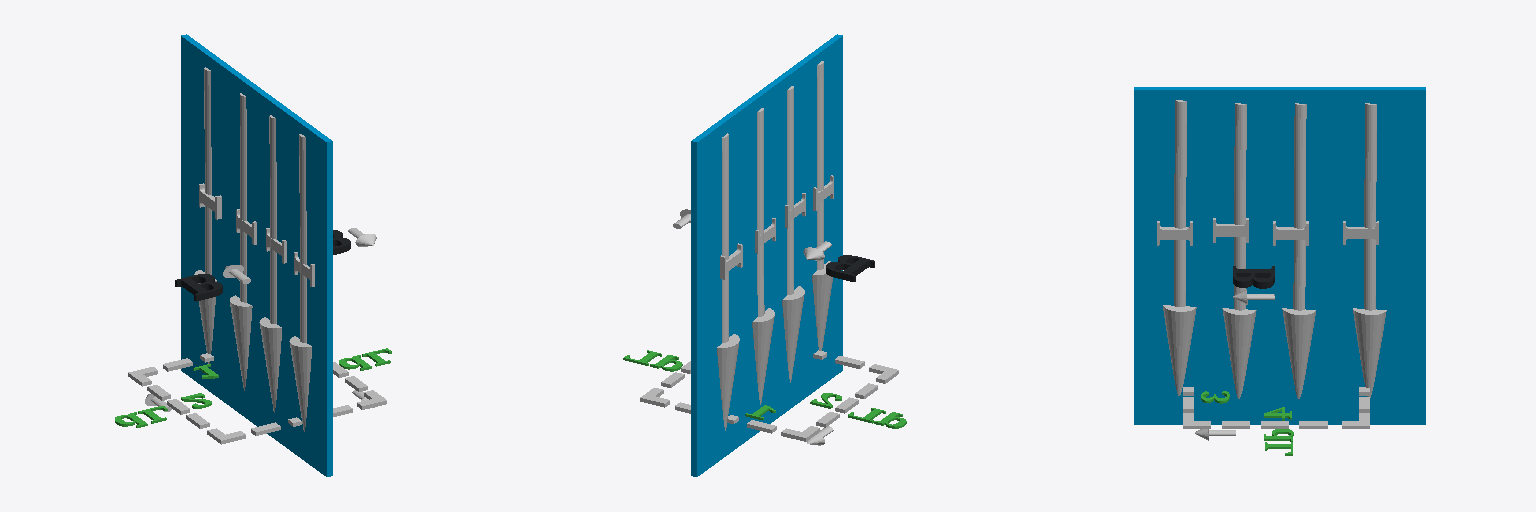
Rendered from Current Sheet.obj.
The picture shows the model from 3 angles: view 1: azimuth 30°, elevation 25°; view 2: azimuth 150°, elevation 25°; view 3: azimuth 270°, elevation 25°; orthographic projection.
Parts seen in each view (by area): view 1: obj_0; view 2: obj_0; view 3: obj_0.
Boxes of the visible parts, x1=… form: obj_0: x1=115, y1=34, x2=391, y2=476; obj_0: x1=623, y1=34, x2=906, y2=476; obj_0: x1=1134, y1=87, x2=1425, y2=455.
Size of the model in its own units: 90.52 by 105 by 83.